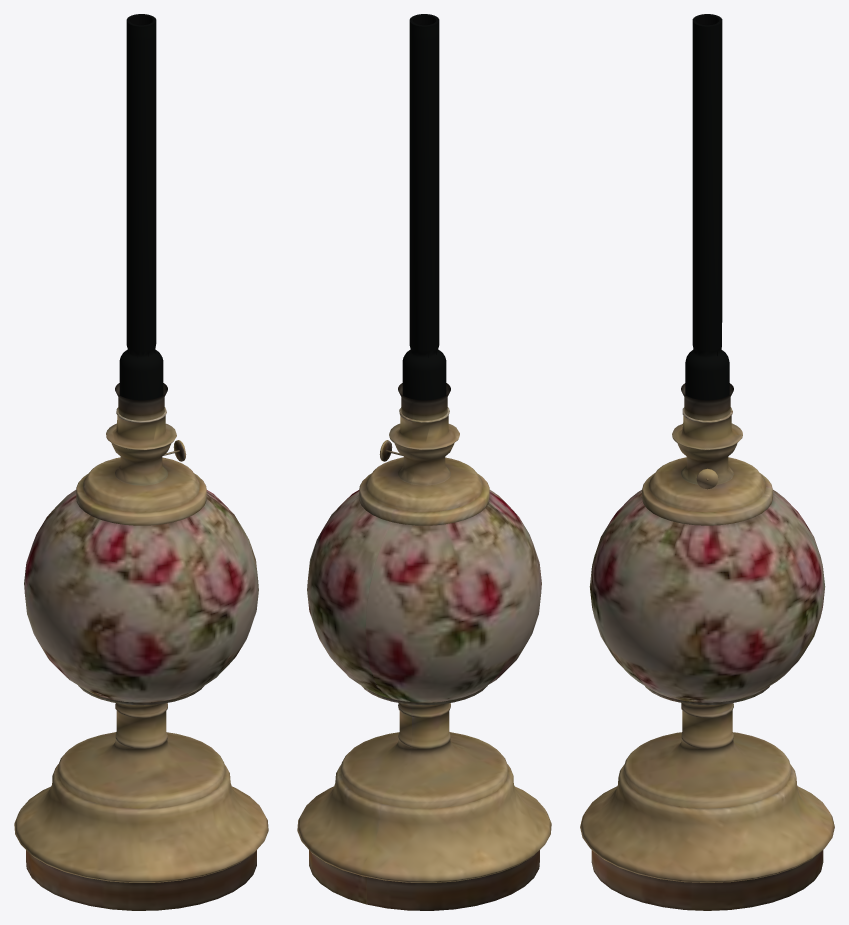
Rendered from lamp-oil-vintage.lite.9bb2cdd0.glb.
The picture shows the model from 3 angles, left to right: view 1: azimuth 30°, elevation 25°; view 2: azimuth 150°, elevation 25°; view 3: azimuth 270°, elevation 25°; orthographic projection.
Parts seen in each view (by area): view 1: model; view 2: model; view 3: model.
Part boxes in pixels (x1,y1,x2,y2): model: (14, 14, 268, 910); model: (297, 14, 551, 910); model: (580, 14, 834, 910).
Size of the model in its own units: 0.22 by 0.8016 by 0.22.
Materials: 3 (3 with a texture image).
